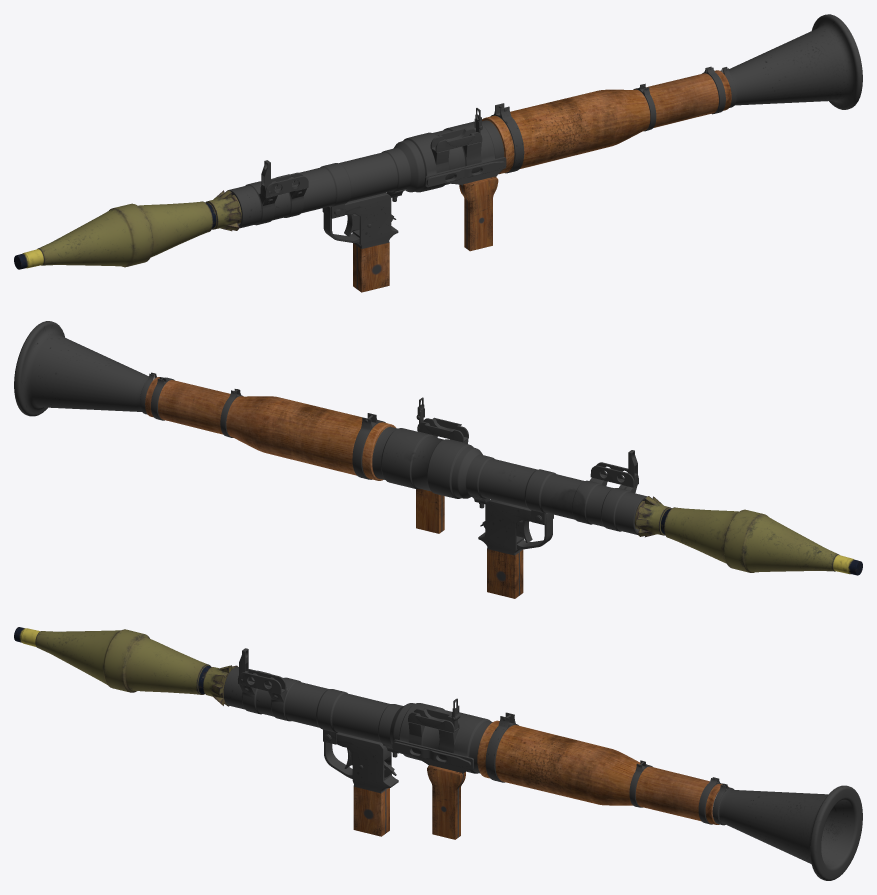
The picture shows the model from 3 angles, top to bottom: view 1: azimuth 30°, elevation 25°; view 2: azimuth 150°, elevation 25°; view 3: azimuth 330°, elevation 25°; orthographic projection.
Parts seen in each view (by area): view 1: RPG_high, Ojiva_high, Mango delantero_high, Mango trasero_high, Sop Mango Trasero_high, Base Mira Trasera_high, Mira Delantera_high; view 2: RPG_high, Ojiva_high, Mango delantero_high, Mango trasero_high, Base Mira Trasera_high, Mira Delantera_high; view 3: RPG_high, Ojiva_high, Mango delantero_high, Mango trasero_high, Sop Mango Trasero_high, Mira Delantera_high, Base Mira Trasera_high.
Part boxes in pixels (x1,y1,x2,y2): RPG_high: (227, 14, 862, 228); Ojiva_high: (14, 190, 241, 269); Mango delantero_high: (323, 193, 398, 292); Mango trasero_high: (445, 169, 502, 251); Sop Mango Trasero_high: (425, 157, 506, 187); Base Mira Trasera_high: (430, 128, 482, 152); Mira Delantera_high: (260, 172, 308, 197); RPG_high: (14, 321, 646, 534); Ojiva_high: (634, 496, 862, 575); Mango delantero_high: (478, 499, 552, 598); Mango trasero_high: (416, 489, 444, 533); Base Mira Trasera_high: (417, 417, 468, 442); Mira Delantera_high: (590, 462, 638, 487); RPG_high: (223, 667, 862, 880); Ojiva_high: (14, 627, 237, 706); Mango delantero_high: (336, 732, 398, 836); Mango trasero_high: (412, 755, 469, 839); Sop Mango Trasero_high: (392, 739, 473, 769); Mira Delantera_high: (238, 669, 286, 694); Base Mira Trasera_high: (408, 708, 459, 732).
Size of the model in its own units: 2.07 by 0.3901 by 0.2123.
Materials: 1 (1 with a texture image).
